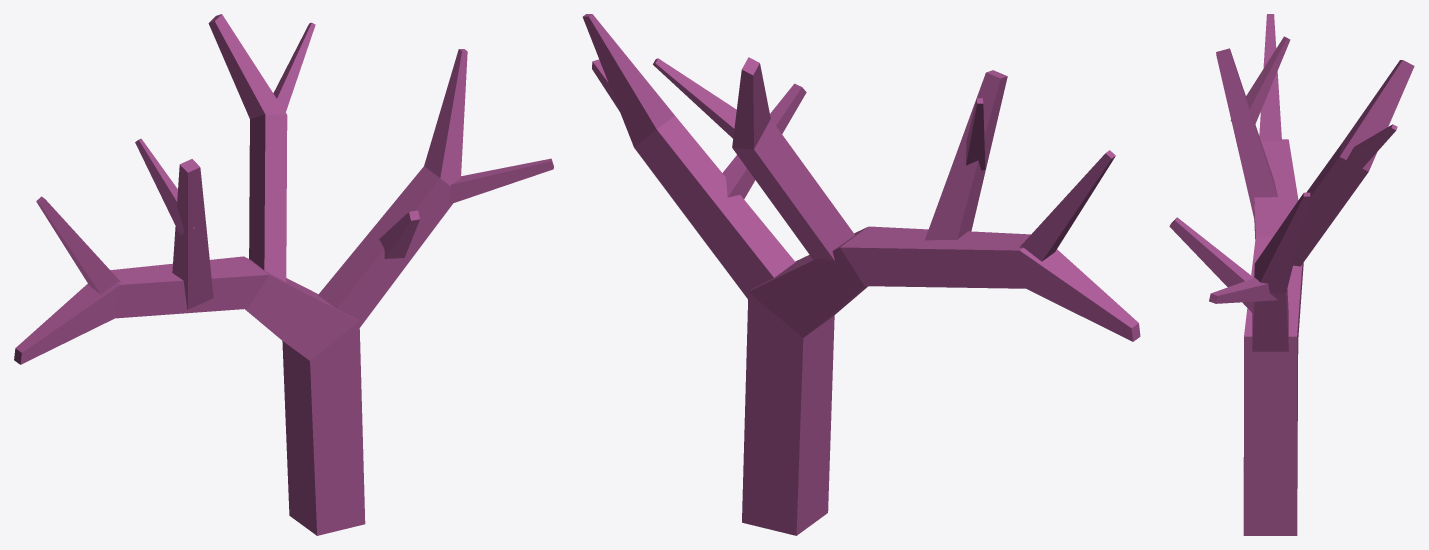
Rendered from Coral2.fbx.
3 views of the same model, side by side, from view 1: azimuth 30°, elevation 25°; view 2: azimuth 150°, elevation 25°; view 3: azimuth 270°, elevation 25° (orthographic). The views are drawn at different scales.
Parts seen in each view (by area): view 1: Coral2; view 2: Coral2; view 3: Coral2.
Part boxes in pixels (bbox=[...]): Coral2: bbox=[14, 14, 553, 535]; Coral2: bbox=[582, 14, 1140, 535]; Coral2: bbox=[1169, 14, 1414, 535].
Bounding box in the file's own units: 0.8449 × 0.7382 × 0.3667.
